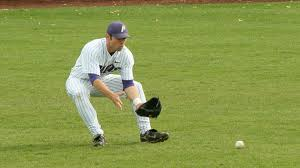baseball: (235, 140, 245, 150)
baseball player: (64, 21, 170, 148)
